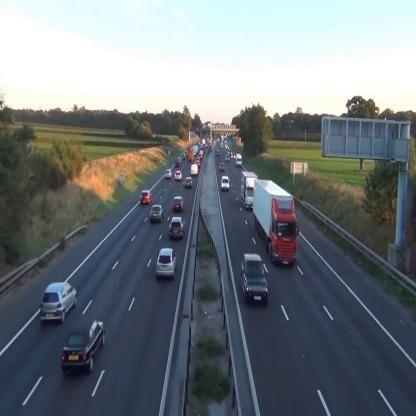car: (61, 320, 105, 368), (41, 282, 77, 324), (240, 254, 269, 306), (156, 248, 177, 280), (169, 216, 185, 238), (150, 204, 164, 223), (172, 196, 184, 212), (140, 190, 152, 205), (221, 176, 229, 190), (190, 165, 198, 174), (175, 170, 182, 180), (185, 178, 193, 186), (165, 169, 172, 178), (219, 162, 225, 170)
lorry: (253, 179, 299, 266), (240, 170, 258, 208)
